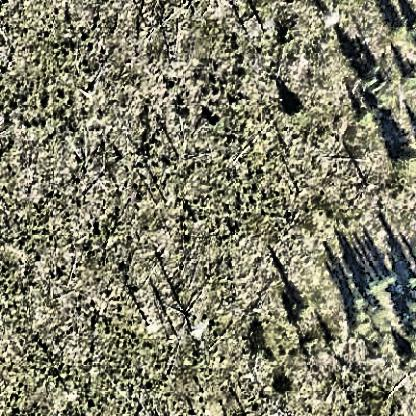tree-top: (340, 289, 385, 338), (359, 64, 403, 112), (286, 298, 315, 323), (387, 16, 411, 43), (396, 347, 416, 376), (390, 147, 416, 169), (272, 373, 295, 394), (378, 268, 399, 287), (286, 101, 307, 117)
